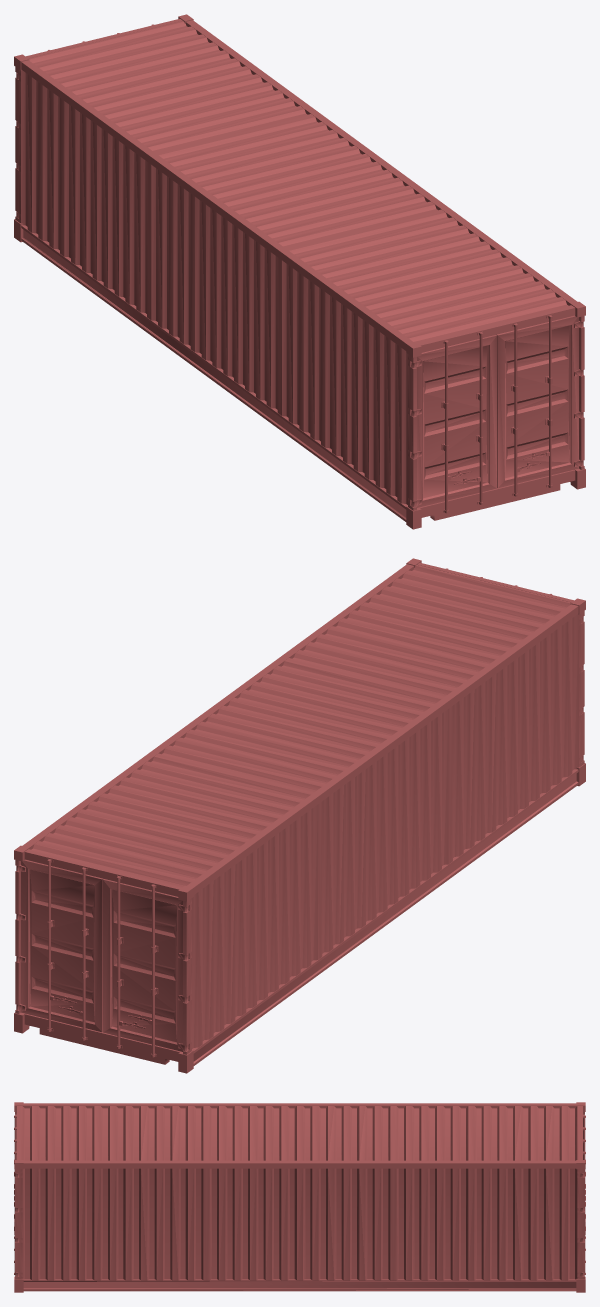
Rendered from shipping_container_big.fbx.
The picture shows the model from 3 angles, top to bottom: view 1: azimuth 30°, elevation 25°; view 2: azimuth 150°, elevation 25°; view 3: azimuth 270°, elevation 25°; orthographic projection. The views are drawn at different scales.
Parts seen in each view (by area): view 1: shipping_container_big; view 2: shipping_container_big; view 3: shipping_container_big.
Part boxes in pixels (left/top/right/bottom): shipping_container_big: left=14, top=14, right=585, bottom=529; shipping_container_big: left=14, top=558, right=585, bottom=1073; shipping_container_big: left=14, top=1102, right=585, bottom=1292.
Bounding box in the file's own units: 192 × 192 × 768.
